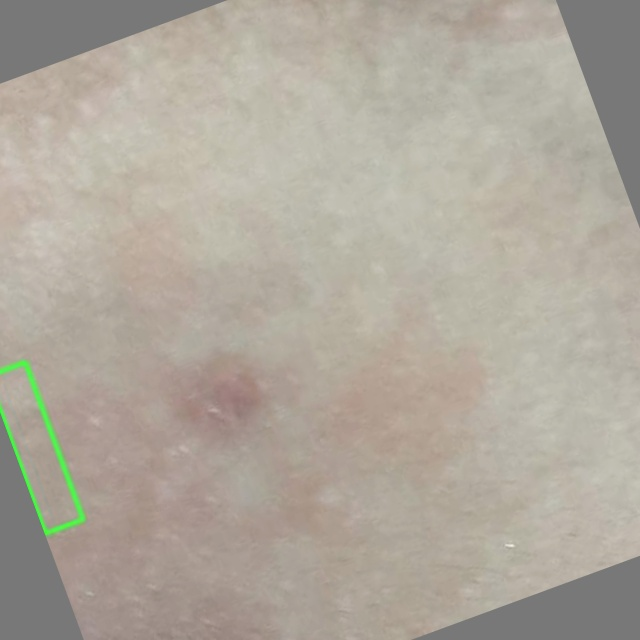Atopic Dermatitis: (0, 362, 83, 533)
